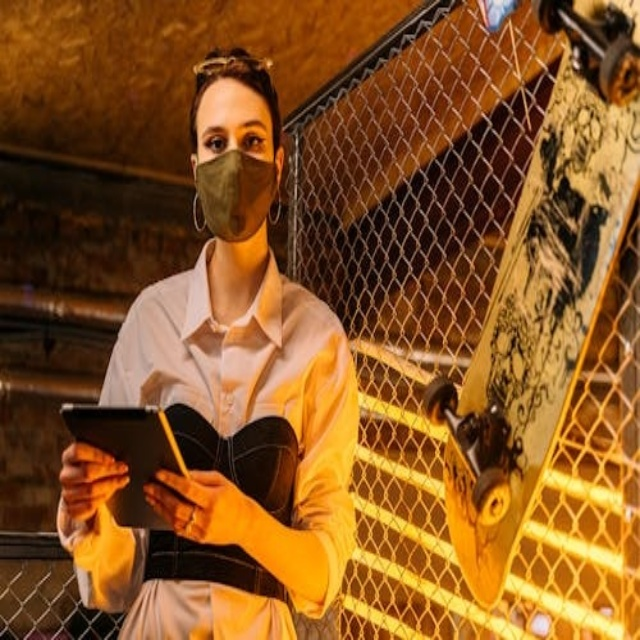Mascara: (193, 148, 276, 240)
Sin_gafas: (197, 119, 274, 158)
Sin_guantes: (142, 465, 231, 553), (58, 438, 130, 537)
